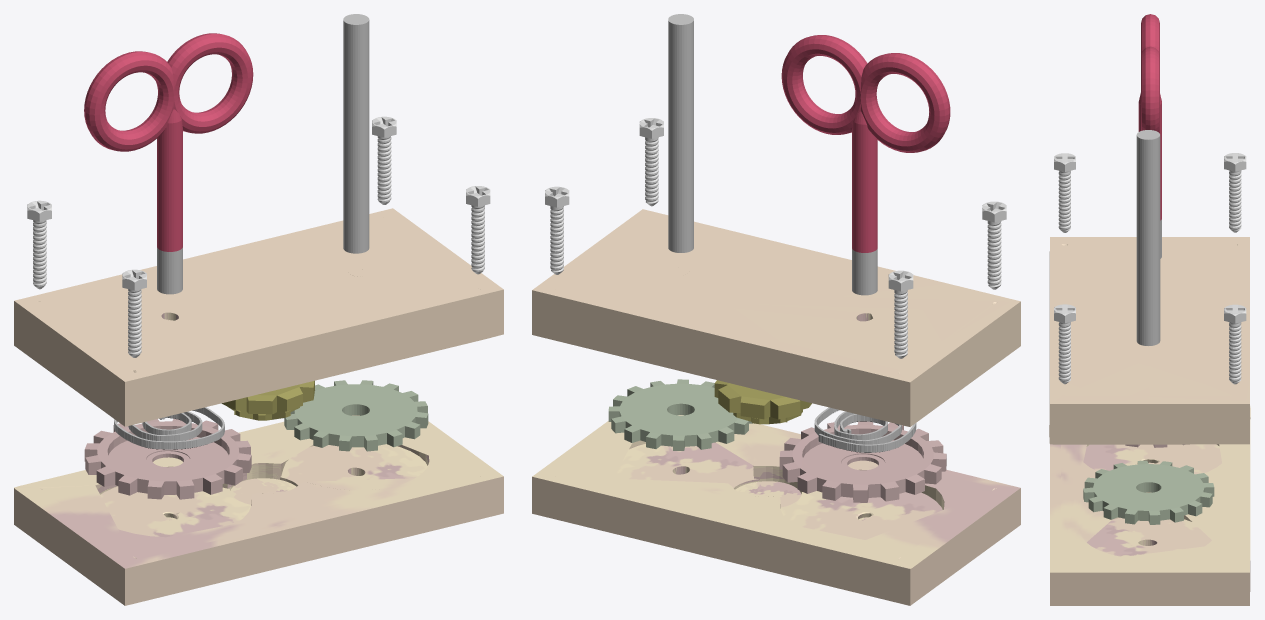
Rendered from gearboxmesh.fbx.
The picture shows the model from 3 angles, left to right: view 1: azimuth 30°, elevation 25°; view 2: azimuth 150°, elevation 25°; view 3: azimuth 270°, elevation 25°; orthographic projection. The views are drawn at different scales.
Parts seen in each view (by area): view 1: gearboxtop, gearboxbottom, winduppart3, springgear, big gear, pole, spring, small gear, screw.001, screw.003, screw, screw.002 (+1 smaller); view 2: gearboxtop, gearboxbottom, winduppart3, springgear, big gear, pole, small gear, spring, screw.003, screw, screw.002, screw.001 (+1 smaller); view 3: gearboxtop, gearboxbottom, big gear, pole, winduppart3, screw.001, screw, screw.002, screw.003.
Boxes of the visible parts, x1,y1,x2,y2 form: gearboxtop: [14, 208, 503, 426]; gearboxbottom: [14, 415, 503, 605]; winduppart3: [84, 33, 253, 251]; springgear: [84, 418, 251, 499]; big gear: [284, 380, 428, 451]; pole: [343, 14, 369, 253]; spring: [114, 407, 224, 449]; small gear: [221, 380, 314, 420]; screw.001: [372, 116, 396, 204]; screw.003: [122, 269, 146, 357]; screw: [27, 200, 51, 289]; screw.002: [466, 186, 490, 274]; gearboxtop: [532, 209, 1020, 426]; gearboxbottom: [532, 415, 1020, 605]; winduppart3: [781, 35, 950, 252]; springgear: [779, 421, 946, 502]; big gear: [608, 379, 752, 450]; pole: [668, 14, 693, 252]; small gear: [714, 380, 811, 424]; spring: [814, 407, 916, 452]; screw.003: [982, 201, 1006, 289]; screw: [888, 270, 913, 358]; screw.002: [639, 118, 663, 206]; screw.001: [545, 186, 569, 274]; gearboxtop: [1049, 237, 1249, 444]; gearboxbottom: [1050, 406, 1250, 605]; big gear: [1083, 460, 1214, 524]; pole: [1136, 130, 1160, 345]; winduppart3: [1138, 14, 1161, 220]; screw.001: [1224, 304, 1246, 384]; screw: [1224, 153, 1246, 232]; screw.002: [1054, 304, 1075, 384]; screw.003: [1054, 153, 1075, 232].
Bounding box in the file's own units: 41.28 × 51.52 × 20.94.
